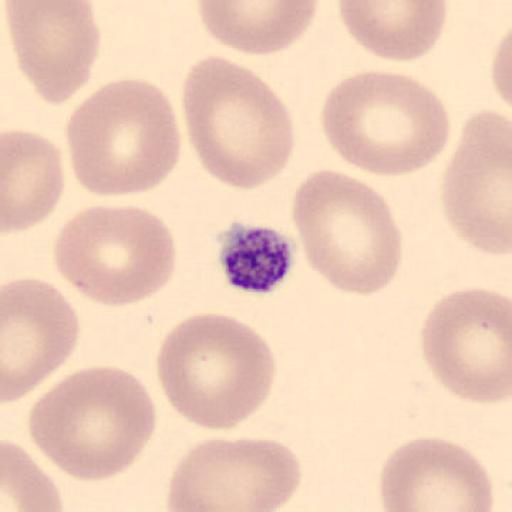Platelet: (216, 220, 300, 296)
RBC: (180, 54, 296, 192), (27, 365, 158, 483), (154, 310, 278, 433), (319, 68, 453, 178), (291, 168, 403, 298), (64, 76, 182, 199), (52, 202, 178, 308), (419, 284, 512, 406), (441, 106, 512, 258), (165, 436, 303, 512), (4, 0, 102, 107), (1, 276, 81, 401), (378, 434, 495, 512), (337, 0, 450, 63), (195, 0, 320, 56), (2, 128, 66, 236), (1, 438, 63, 512), (490, 23, 512, 120), (489, 33, 512, 108)
